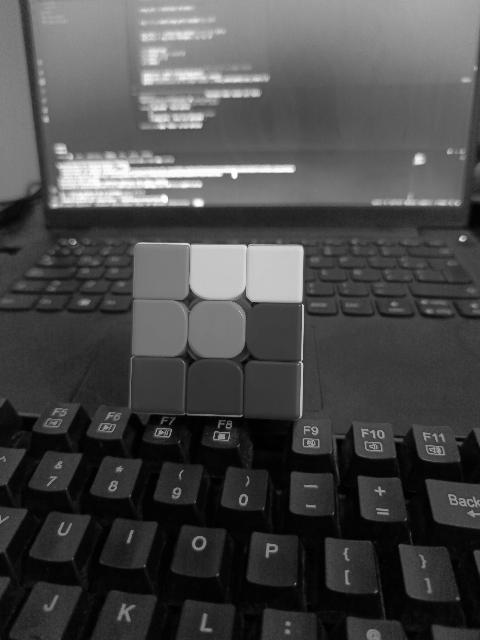rubik: (128, 241, 306, 419)
